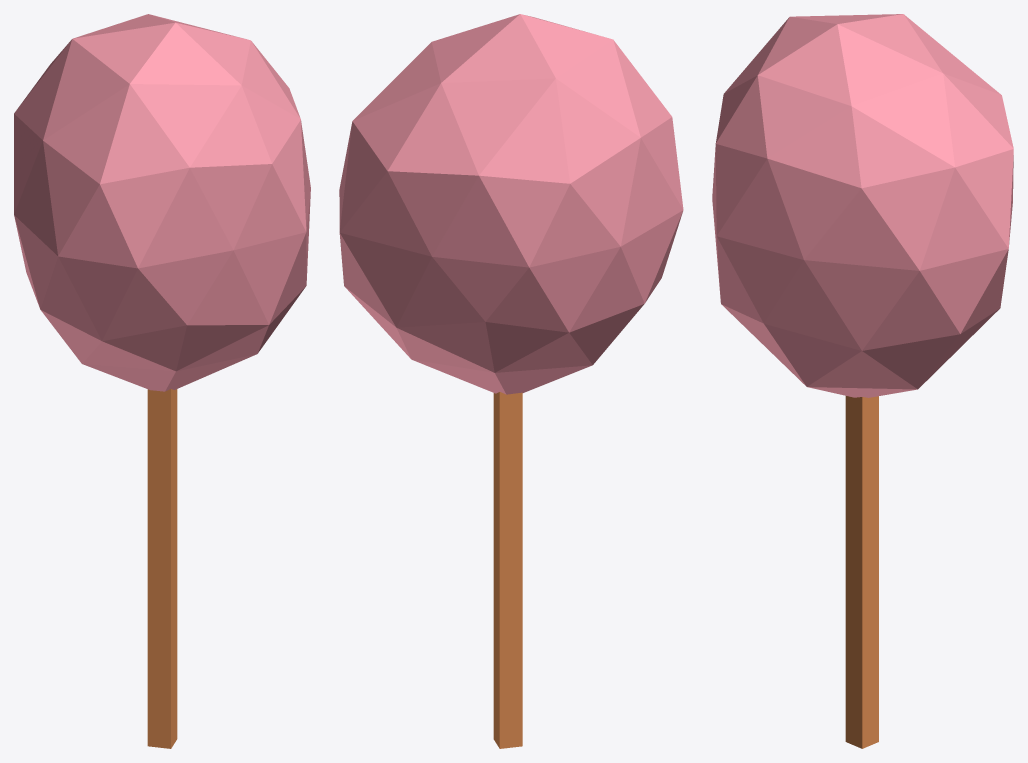
The model's file is cloud_prop.fbx.
The picture shows the model from 3 angles, left to right: view 1: azimuth 30°, elevation 25°; view 2: azimuth 150°, elevation 25°; view 3: azimuth 270°, elevation 25°; orthographic projection.
Parts seen in each view (by area): view 1: cloudmachine.001; view 2: cloudmachine.001; view 3: cloudmachine.001.
Part boxes in pixels (<box>): cloudmachine.001: <box>14,14,310,748</box>; cloudmachine.001: <box>339,14,683,748</box>; cloudmachine.001: <box>712,14,1013,748</box>.
Bounding box in the file's own units: 57.36 × 141 × 53.8.
